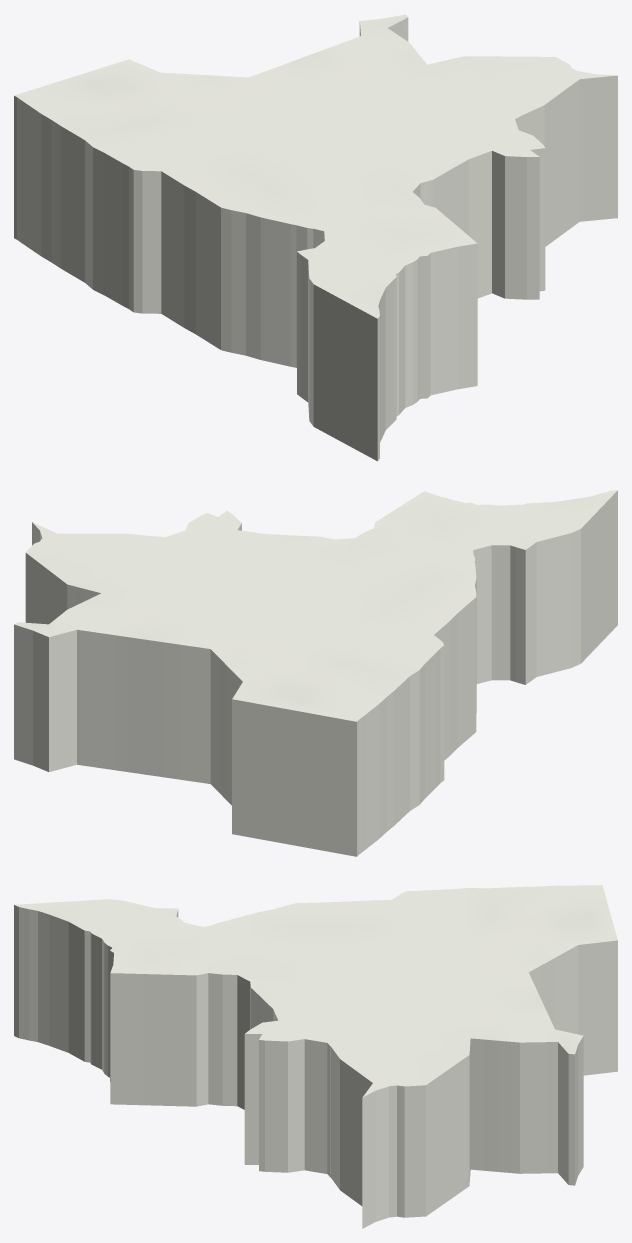
File: woodbridge.glb
3 renders of one model, top to bottom at view 1: azimuth 30°, elevation 25°; view 2: azimuth 150°, elevation 25°; view 3: azimuth 270°, elevation 25°, orthographic. The views are drawn at different scales.
Parts seen in each view (by area): view 1: Plane.013; view 2: Plane.013; view 3: Plane.013.
Part boxes in pixels (x1,y1,x2,y2): Plane.013: (14,14,617,461); Plane.013: (14,490,617,856); Plane.013: (14,885,617,1228).
Size of the model in its own units: 1.27 by 0.3658 by 1.53.
Materials: 1 (1 with a texture image).
